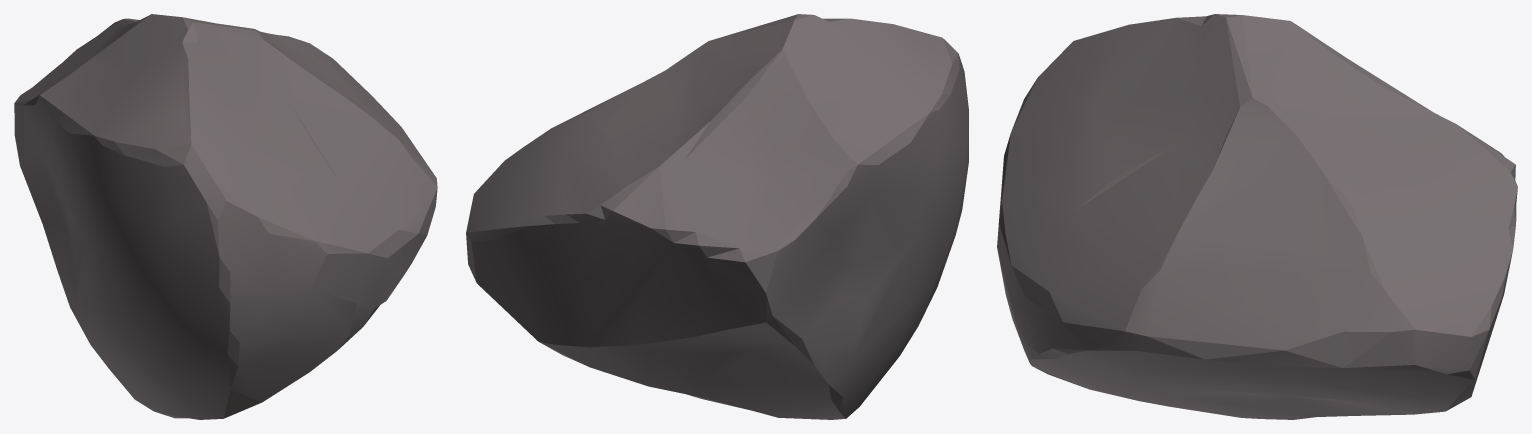
The model's file is Rock1.fbx.
3 views of the same model, side by side, from view 1: azimuth 30°, elevation 25°; view 2: azimuth 150°, elevation 25°; view 3: azimuth 270°, elevation 25° (orthographic). The views are drawn at different scales.
Visible parts, largest first — view 1: GeoSphere003; view 2: GeoSphere003; view 3: GeoSphere003.
Part boxes in pixels (x1,y1,x2,y2): GeoSphere003: [14, 14, 437, 419]; GeoSphere003: [466, 14, 968, 419]; GeoSphere003: [997, 14, 1517, 419].
Size of the model in its own units: 21.32 by 21.69 by 24.25.
1 material, 1 textured.
